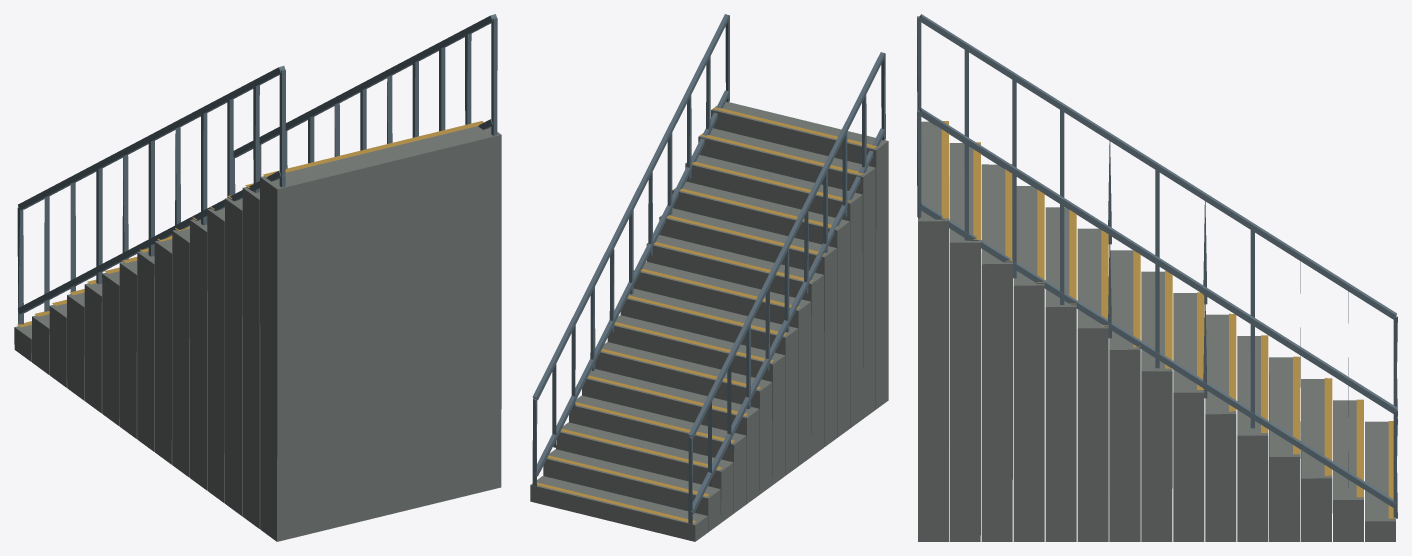
File: architecture-stairs.lod2.glb
3 views of the same model, side by side, from view 1: azimuth 30°, elevation 25°; view 2: azimuth 150°, elevation 25°; view 3: azimuth 270°, elevation 25° (orthographic). The views are drawn at different scales.
Parts seen in each view (by area): view 1: architecture-stairs__body; view 2: architecture-stairs__body; view 3: architecture-stairs__body.
Boxes of the visible parts, x1=… form: architecture-stairs__body: x1=14, y1=14, x2=501, y2=541; architecture-stairs__body: x1=530, y1=14, x2=888, y2=541; architecture-stairs__body: x1=917, y1=14, x2=1397, y2=541.
Bounding box in the file's own units: 1.99 × 4.01 × 4.07.
